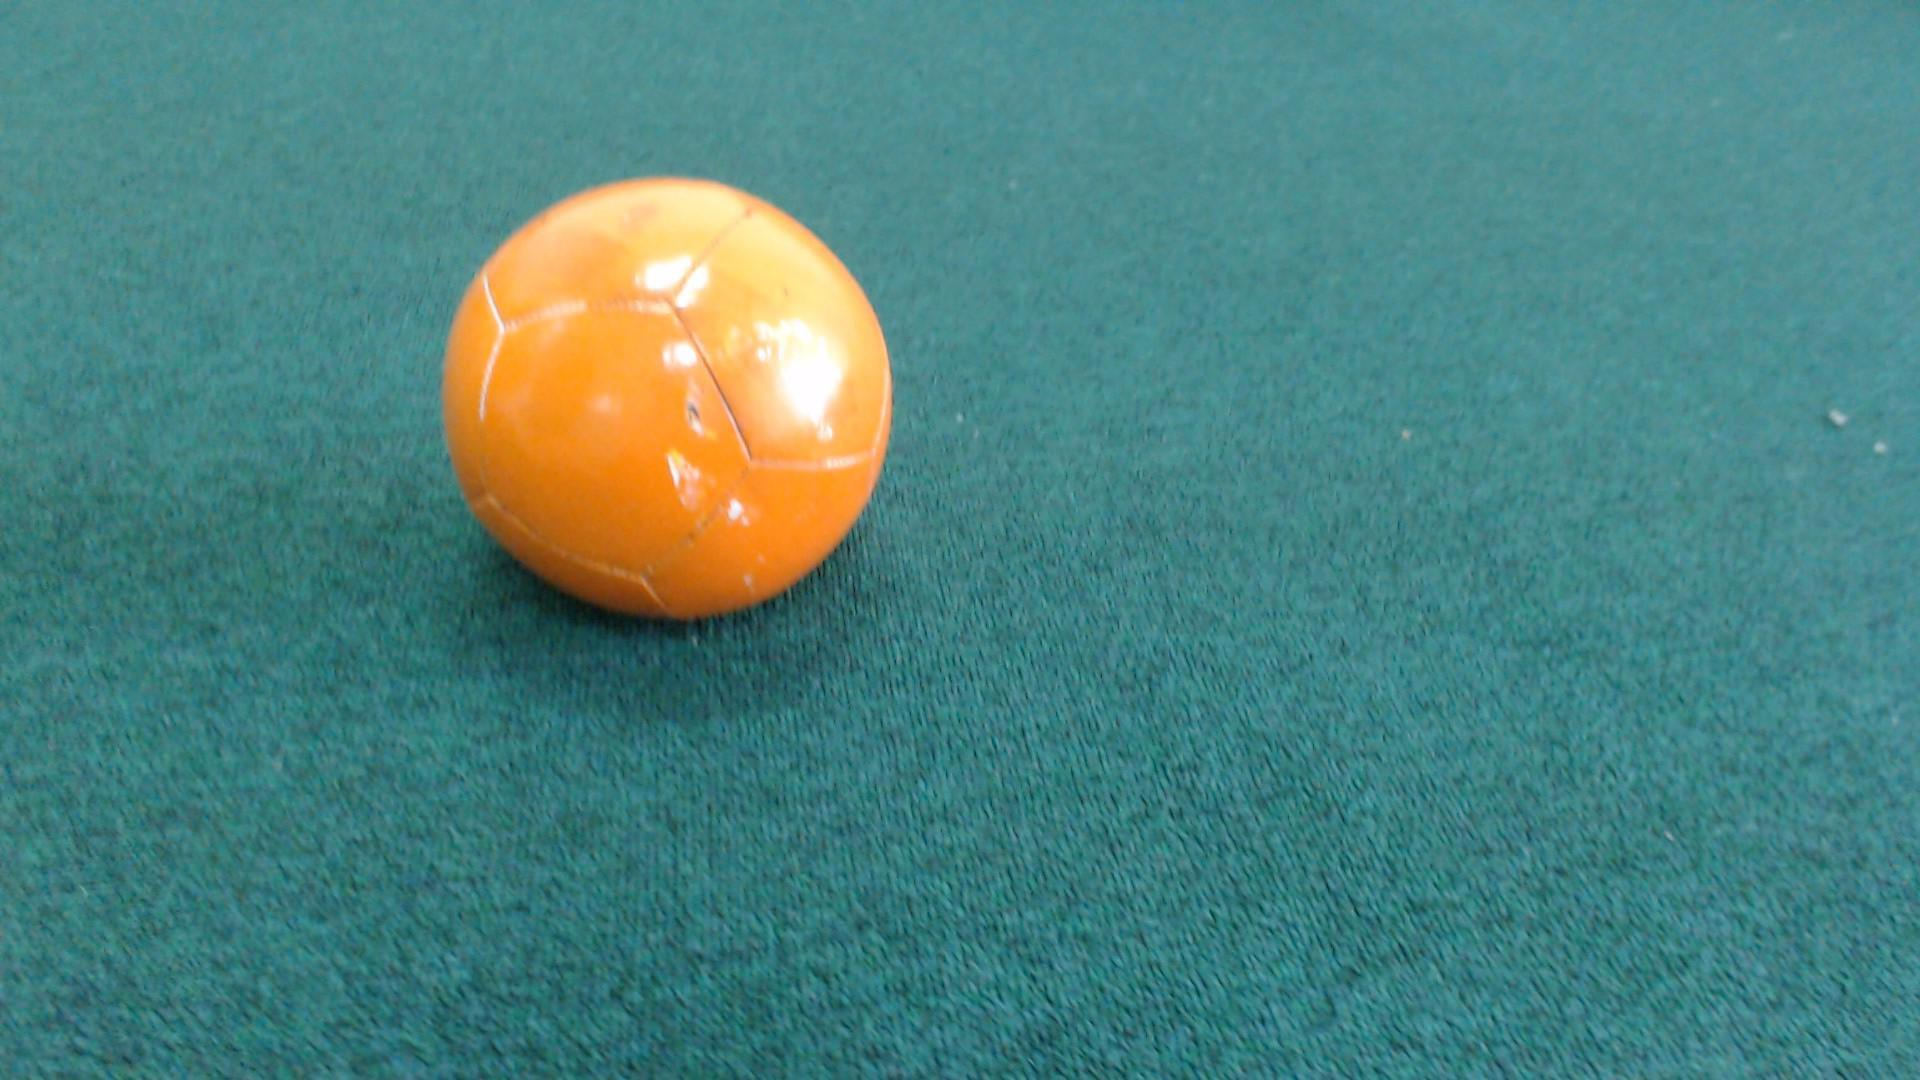bola: (406, 150, 910, 632)
